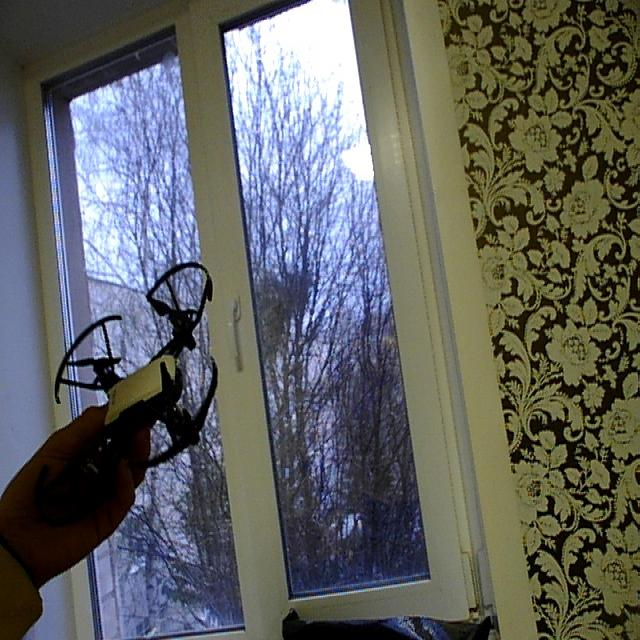drone: (51, 253, 230, 515)
